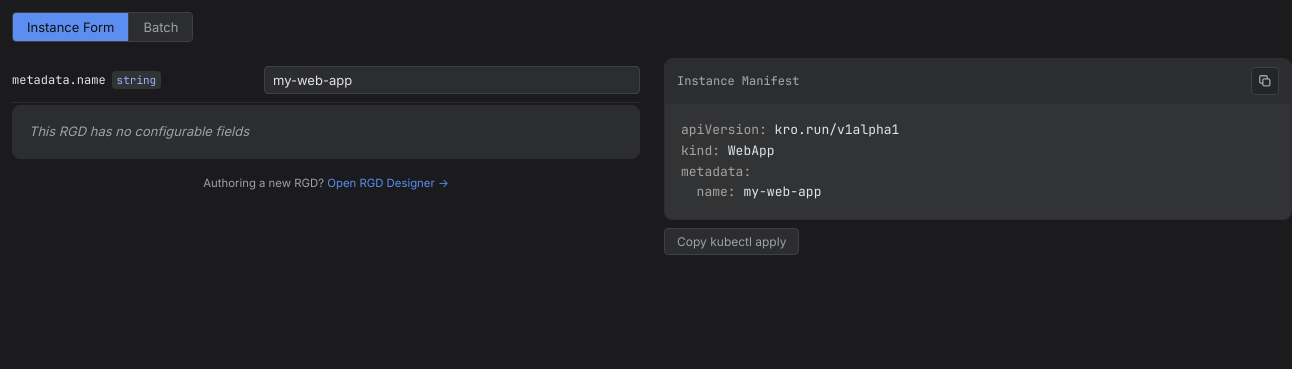
GenerateTab — batch mode › shows error indicator for a malformed row
Click the button with test id "mode-btn-batch".
click(161, 27)  # box [129,13,192,41]
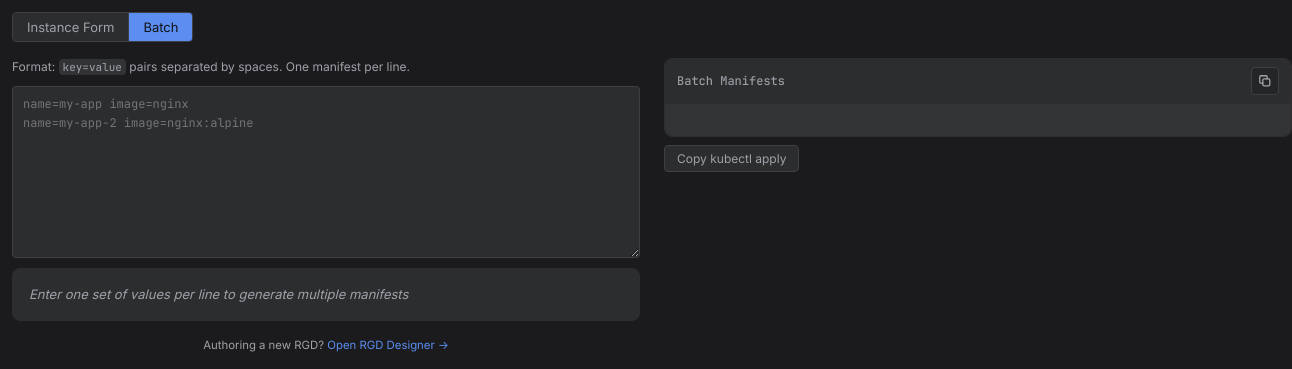
Type "=bad" into the text box with placeholder "name=my-app image=nginx name=my-app-2 image=nginx:alpine".
click(326, 172); type("=bad")  # box [12,86,640,258]
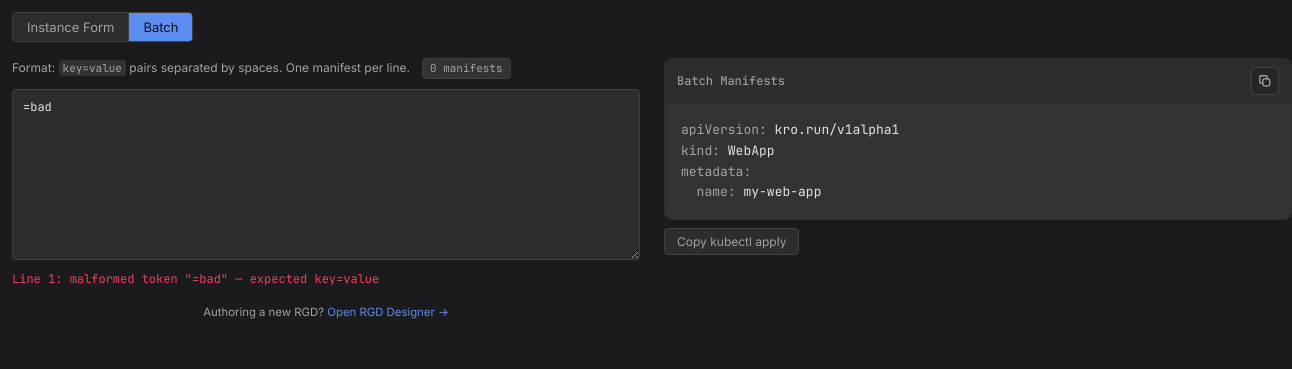
Expected: the list item "Line 1: malformed token \"=bad\" — expected key=value" is shown, [12,271,379,287]
